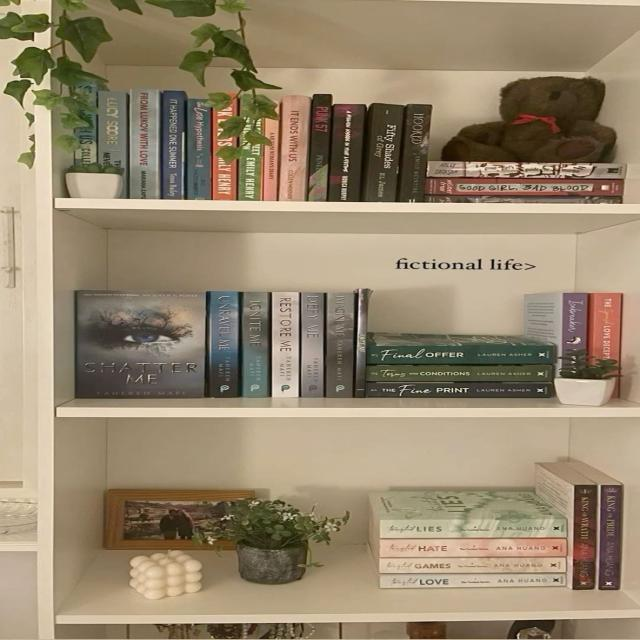book: (360, 103, 403, 202), (328, 104, 366, 201), (207, 292, 241, 398), (381, 519, 569, 538), (128, 89, 160, 199), (428, 161, 623, 179), (277, 96, 310, 201), (396, 104, 431, 202), (380, 539, 568, 557), (97, 91, 127, 198), (240, 290, 270, 397), (367, 366, 558, 381), (368, 383, 552, 398), (184, 98, 211, 200), (426, 178, 621, 192), (272, 293, 298, 397), (161, 91, 186, 199), (211, 99, 237, 200), (573, 484, 598, 589), (381, 558, 568, 572), (369, 348, 555, 362), (329, 293, 353, 396), (307, 94, 330, 201), (302, 294, 325, 396), (600, 484, 622, 589), (379, 574, 568, 586), (237, 121, 263, 200), (594, 294, 619, 371), (427, 194, 622, 203), (566, 296, 588, 364), (261, 119, 279, 201), (355, 290, 364, 396)
candle: (130, 550, 201, 599)
plants: (196, 498, 349, 584), (558, 351, 619, 406)
